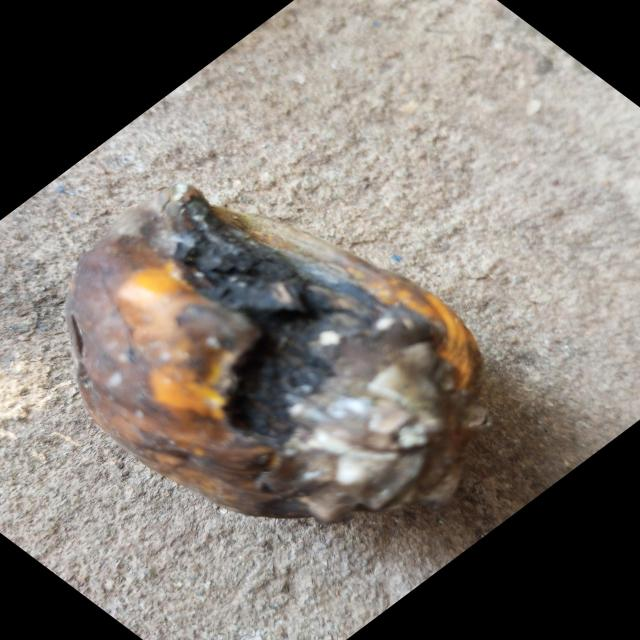damaged: (66, 184, 487, 523)
